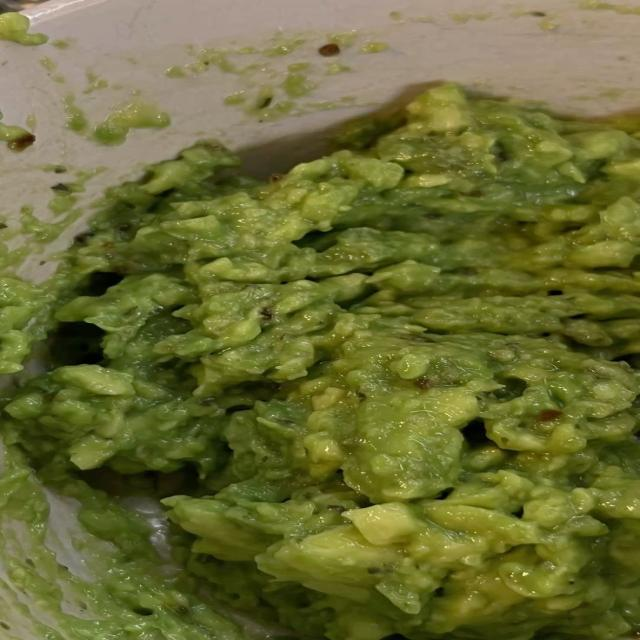avocado: (0, 85, 639, 640)
